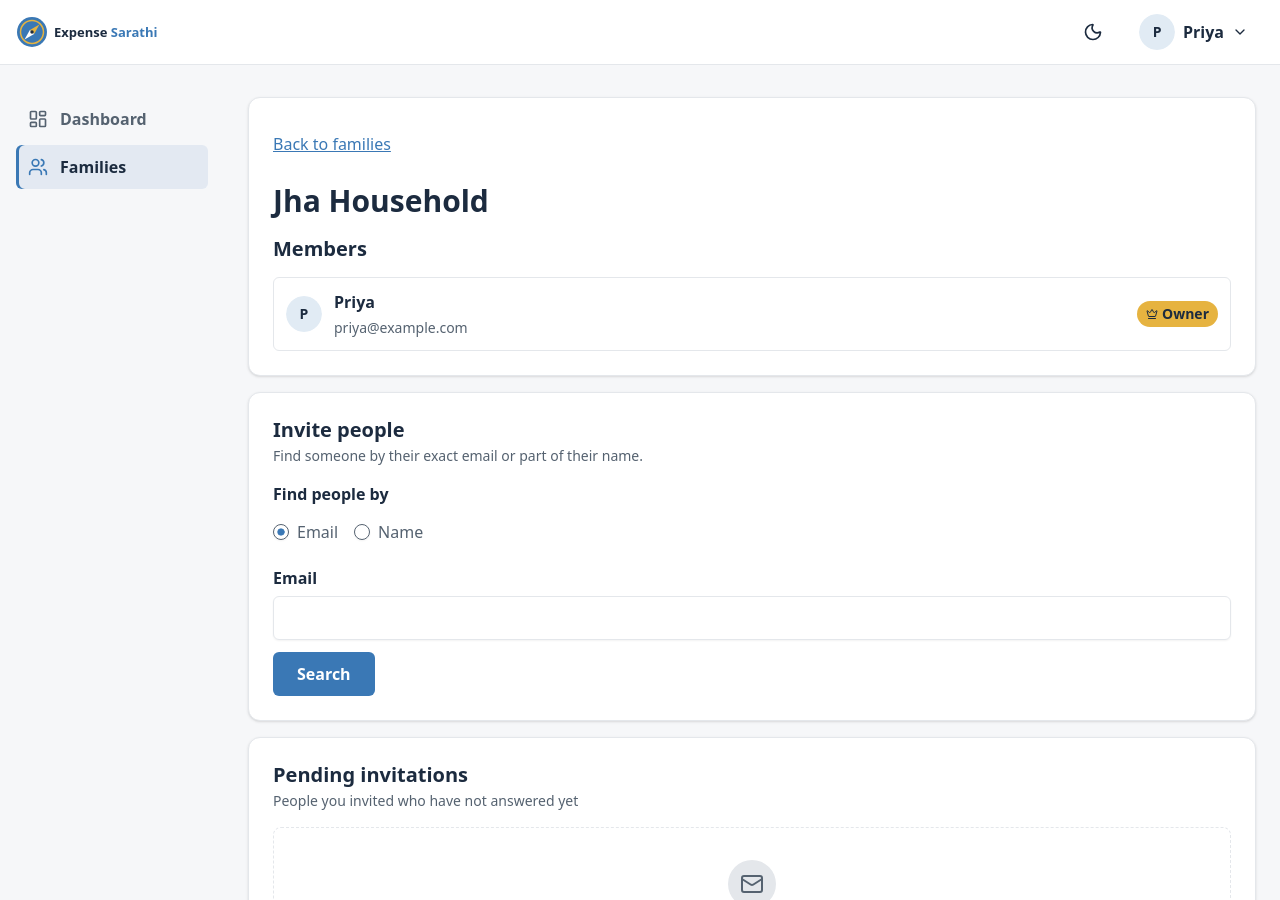
Test: Family detail page › says when no user matches
The image size is (1280, 900).
Click the 1st radio button named "Email". click: x=281, y=532
box: [273,524,289,540]
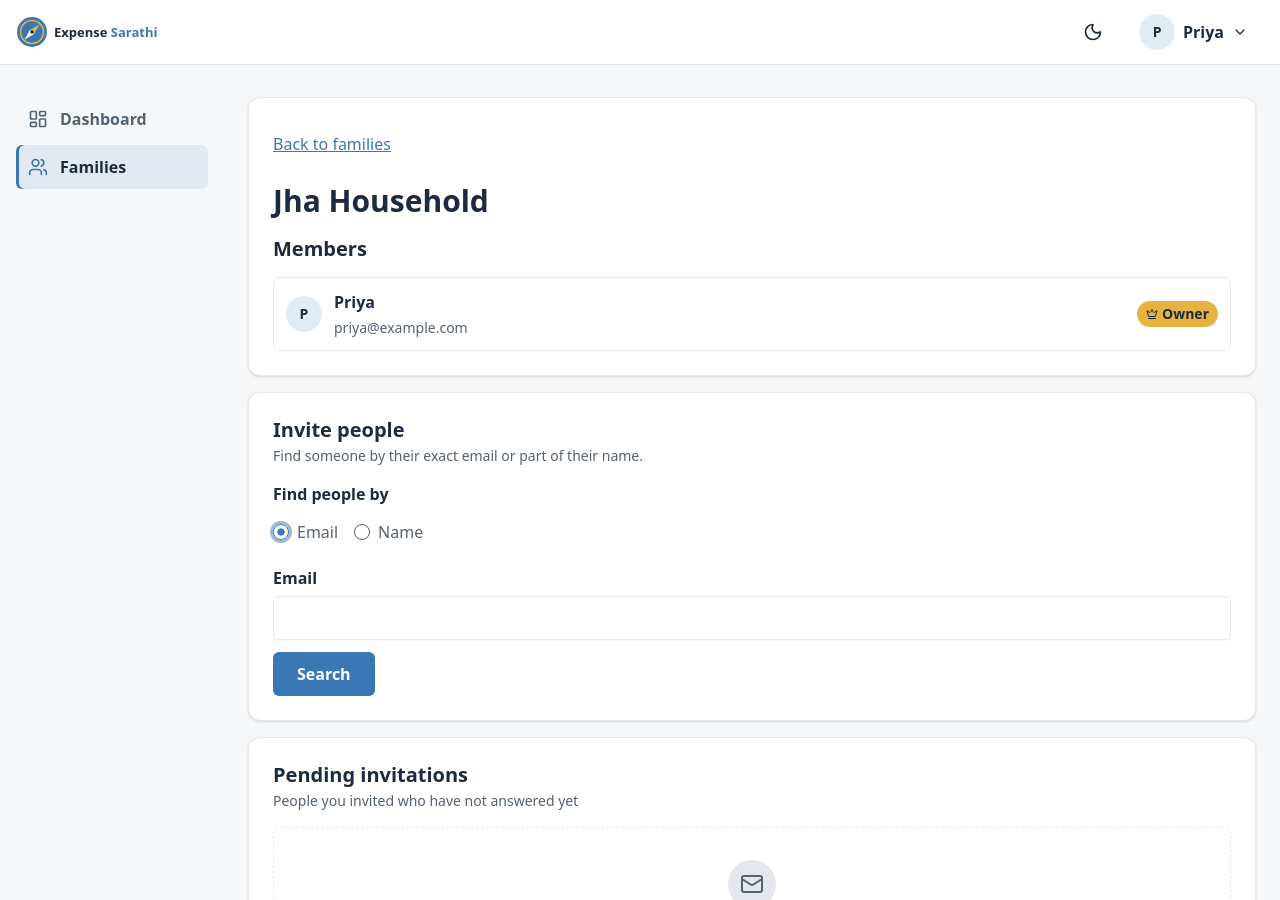
Type "nobody@example.com" into the field labelled "Email". click: x=752, y=618
box: [273,596,1231,640]
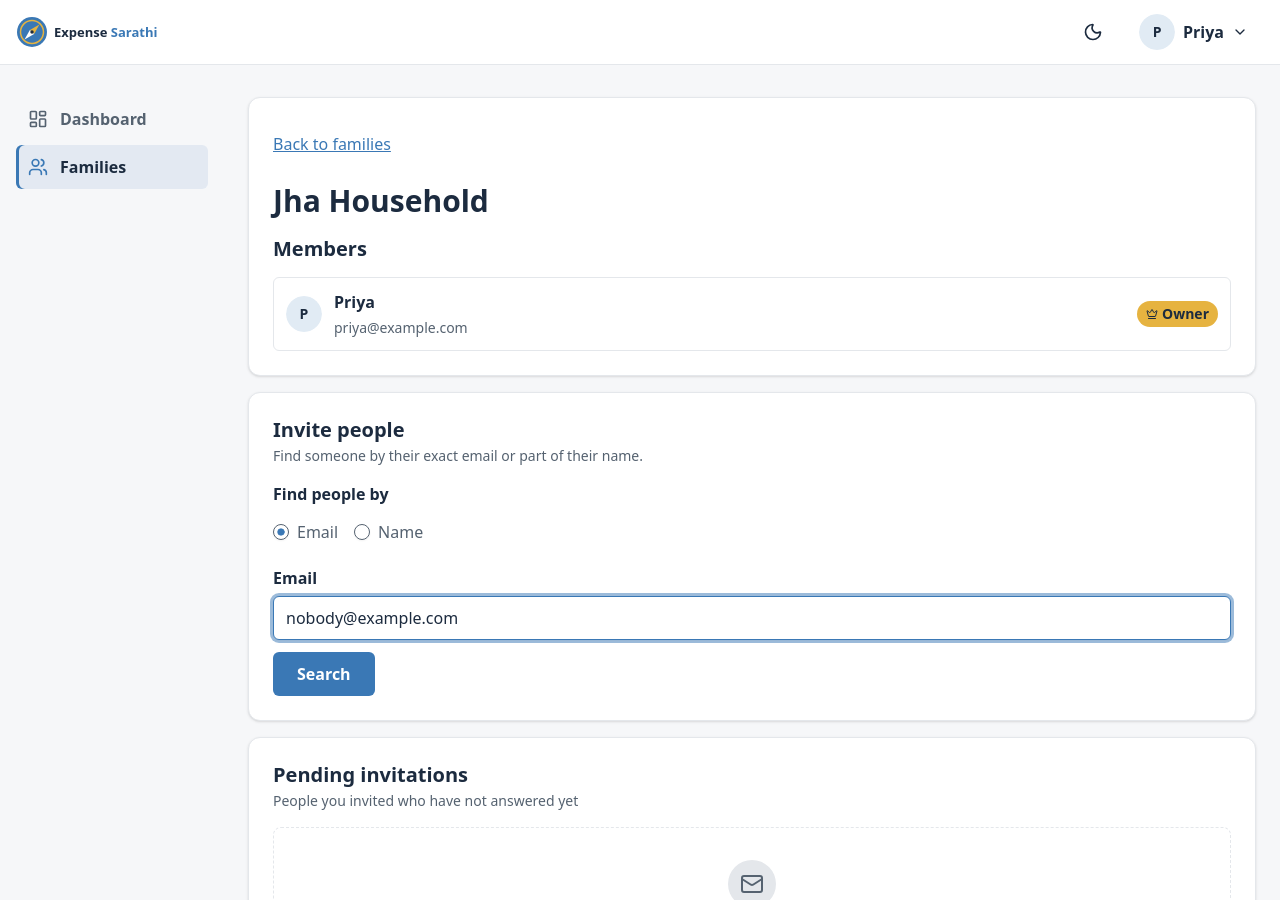
Click the button "Search". click: x=324, y=674
box: [273,652,375,696]
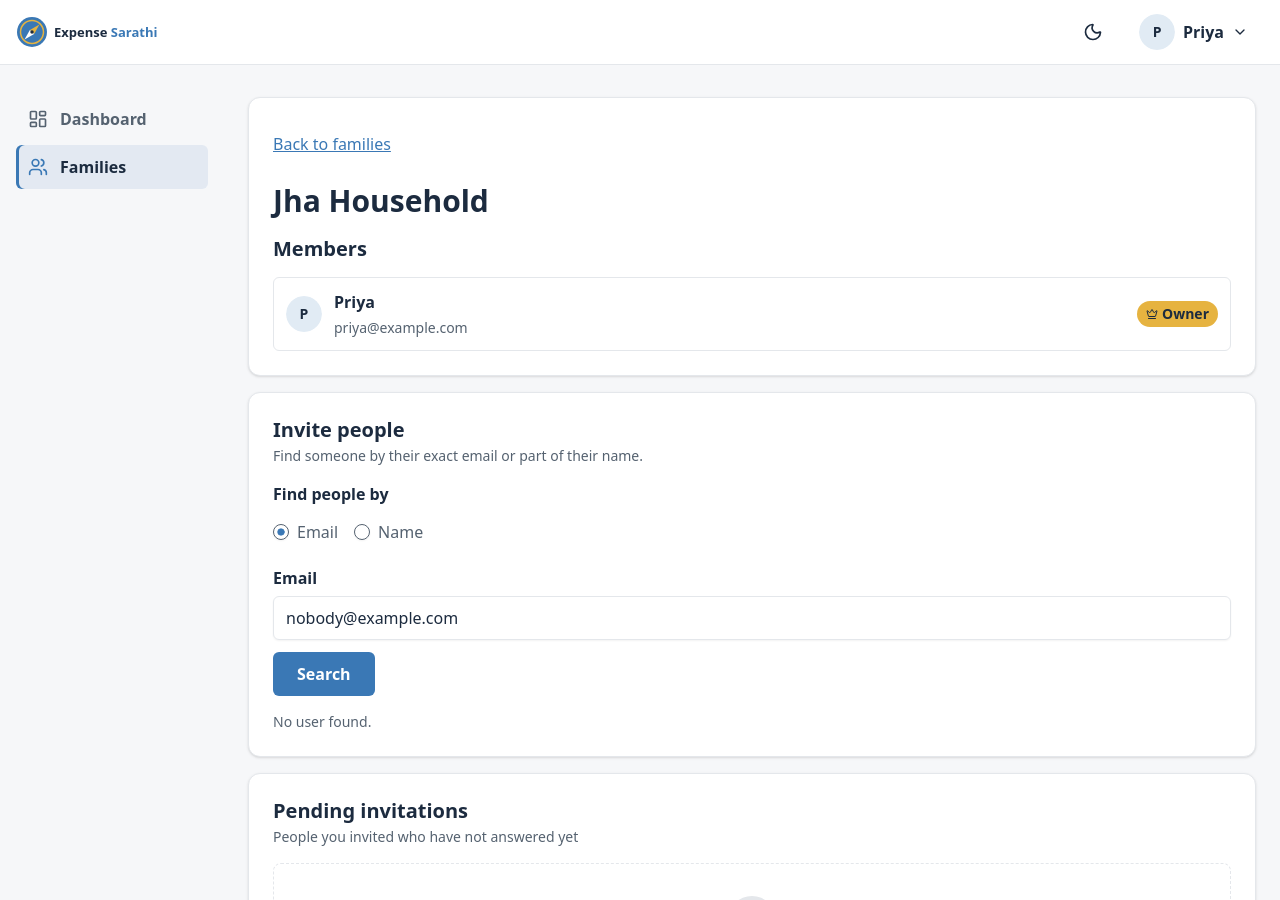
Check: the text "No user found." is shown, box [273,712,371,730]
